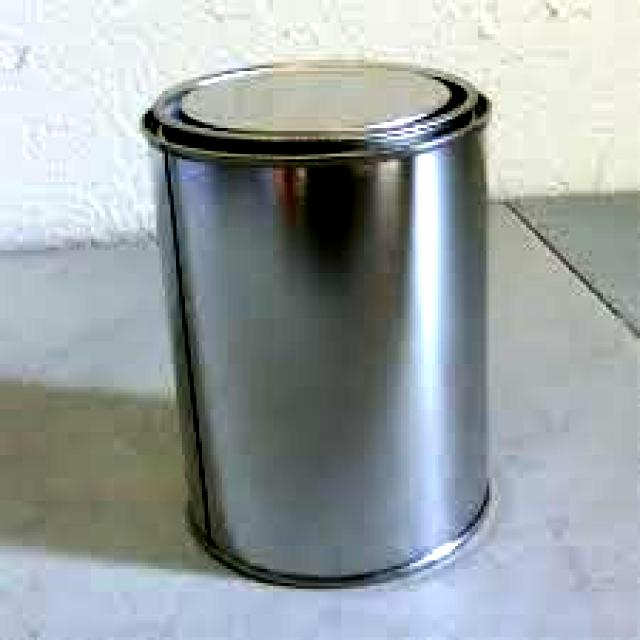Metal: (142, 53, 501, 596)
